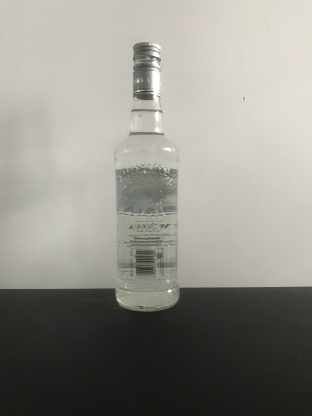nakretka: (131, 40, 162, 100)
